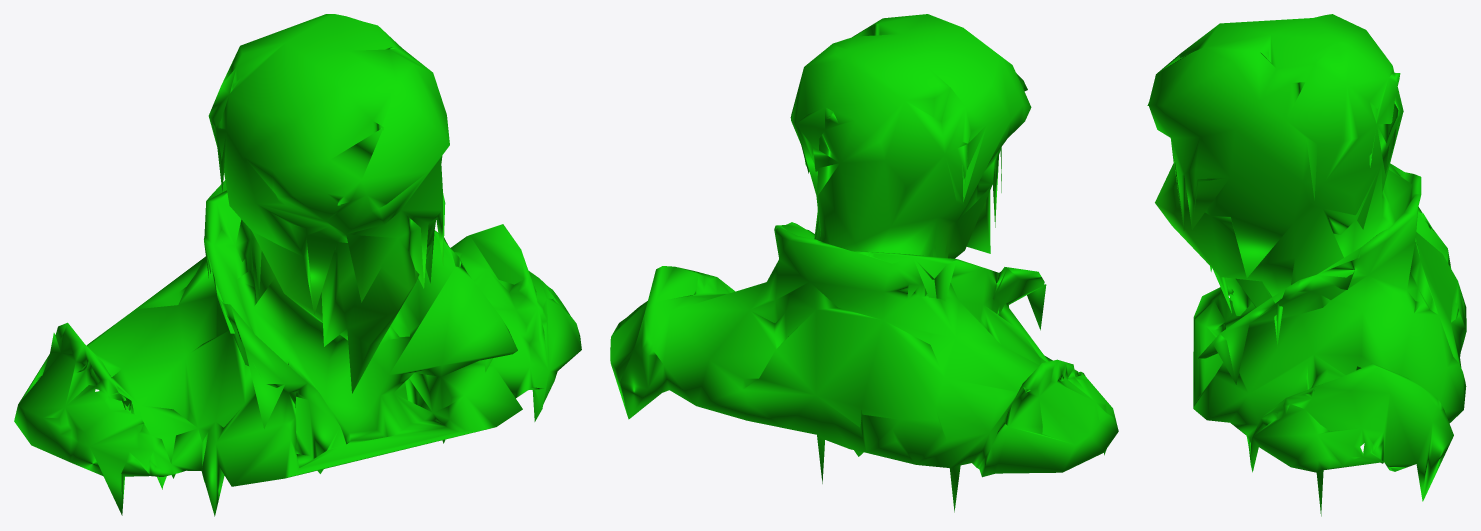
Rendered from head_m.glb.
3 views of the same model, side by side, from view 1: azimuth 30°, elevation 25°; view 2: azimuth 150°, elevation 25°; view 3: azimuth 270°, elevation 25° (orthographic). The views are drawn at different scales.
Parts seen in each view (by area): view 1: head_m; view 2: head_m; view 3: head_m.
Part boxes in pixels (<box>): head_m: <box>14,14,581,516</box>; head_m: <box>610,14,1118,512</box>; head_m: <box>1147,14,1466,516</box>.
Bounding box in the file's own units: 0.6157 × 0.4705 × 0.3604.
